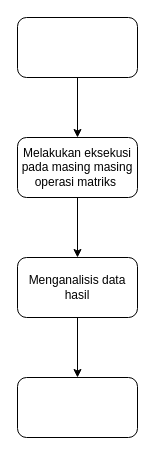
This 155x455 diagram has some shape labels left out. The shapes that lost their labels are listed below. From the top down, each one's centre as x and y in pixels, then its label:
point 77,47: Penulisan Kode
point 77,407: Menampilkan hasil benchmarking ke bentuk plot grafik
